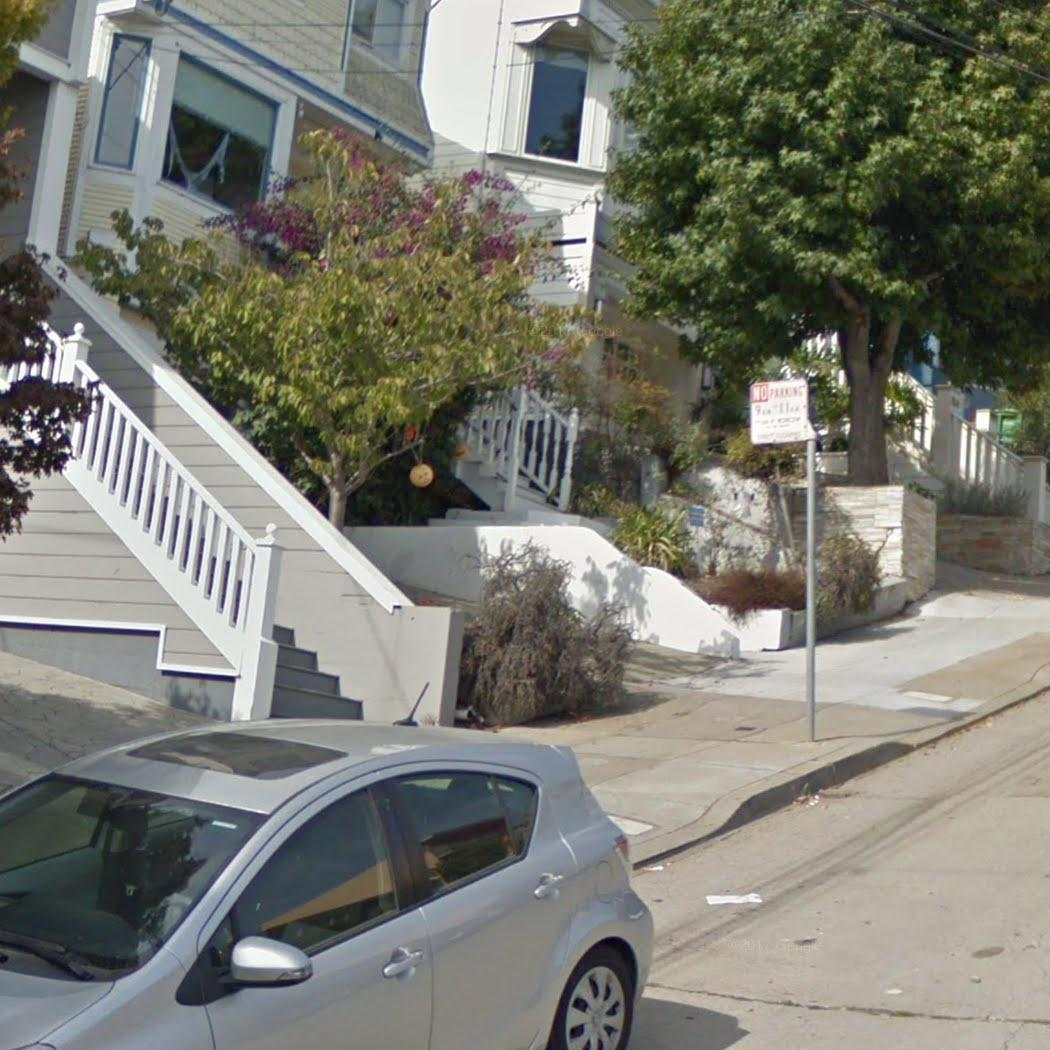No Parking: (748, 374, 811, 445)
